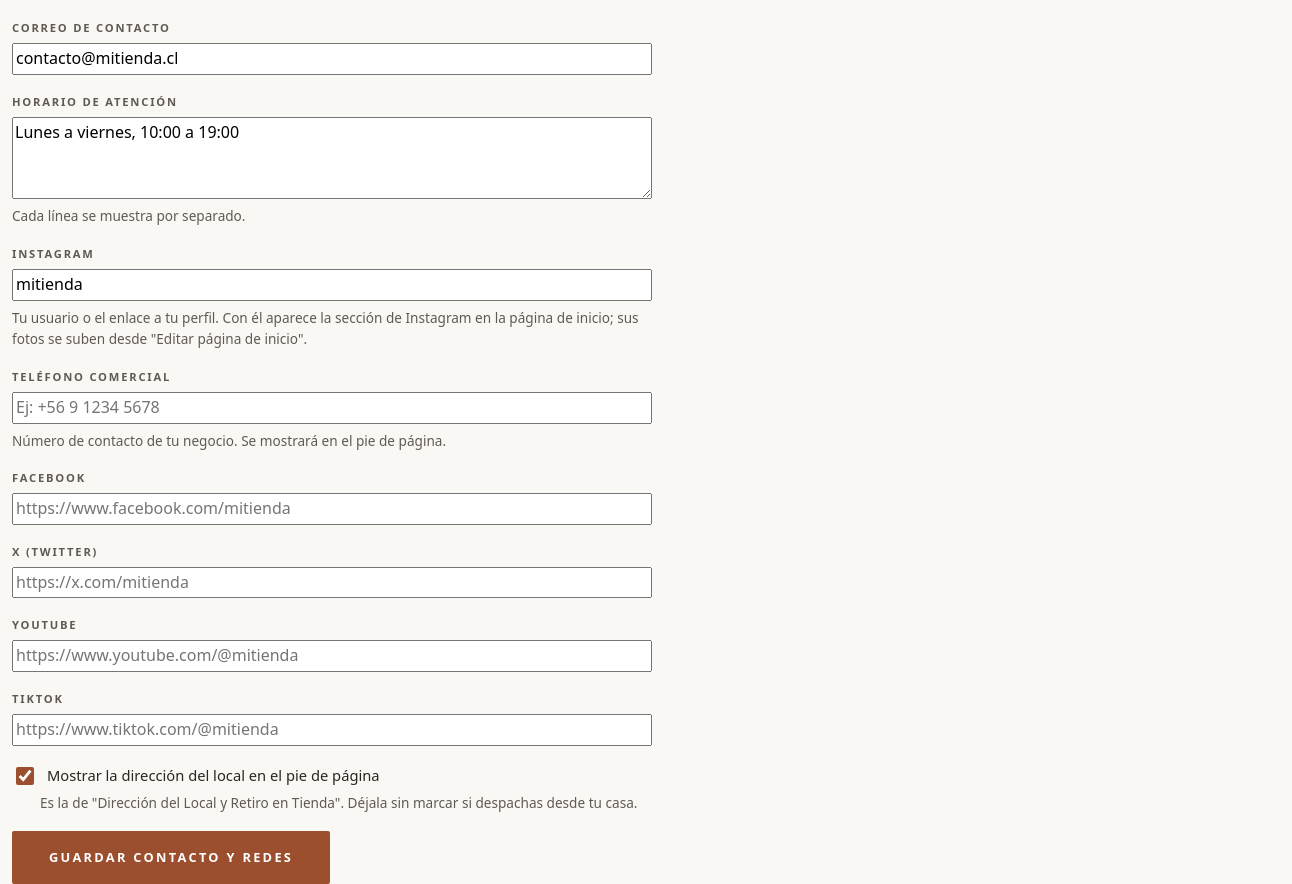
GestorContacto › debe mostrar los errores del backend junto a sus respectivos campos
This screenshot has width=1292, height=884.
(page scrolled)
What coordinates should you click on to do the following:
click the button "Guardar contacto y redes"
I would click on:
 (171, 858)
Its box is [12,831,330,883].
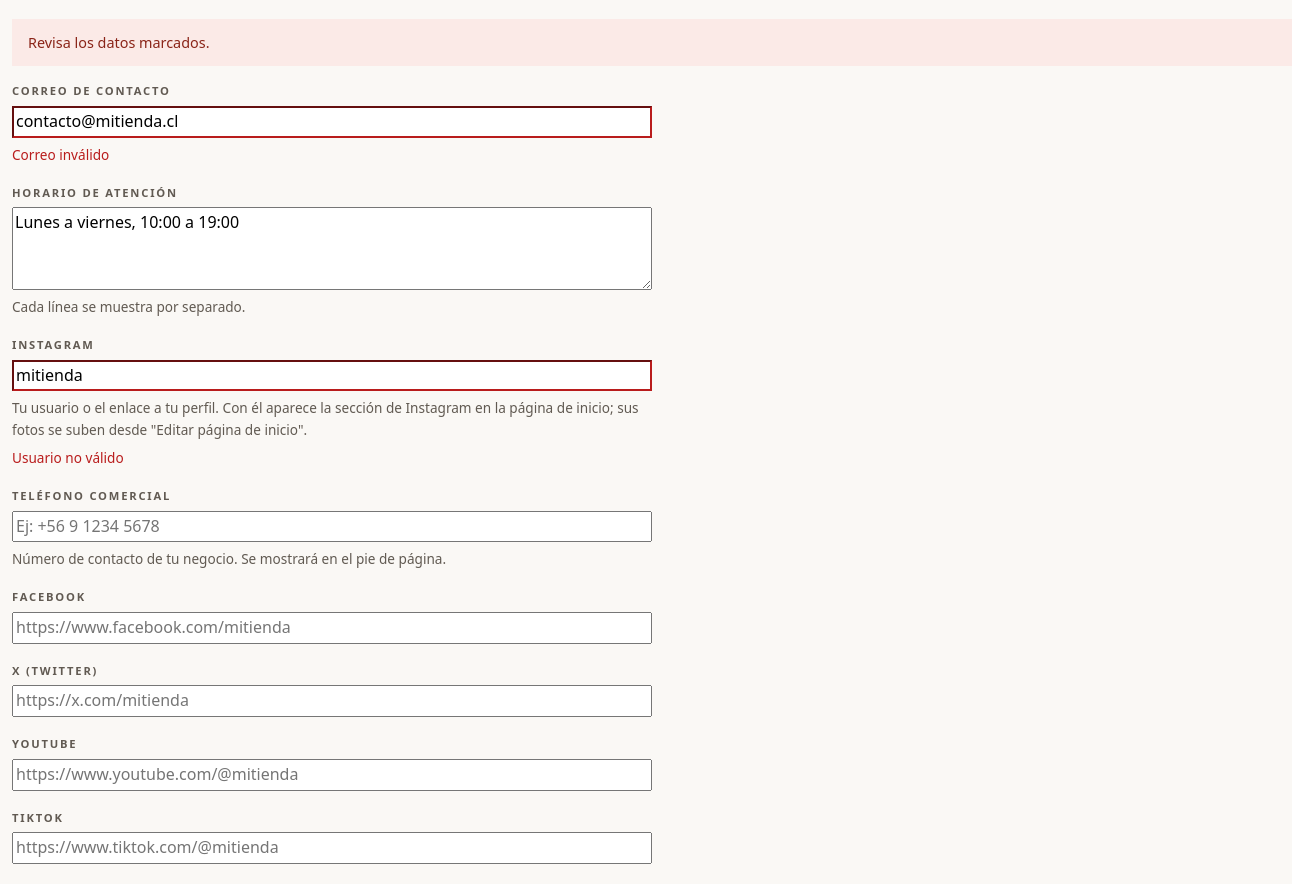
Expected: the text "Correo inválido" is shown, [12,145,109,164]
Expected: the text "Usuario no válido" is shown, [12,448,124,467]
